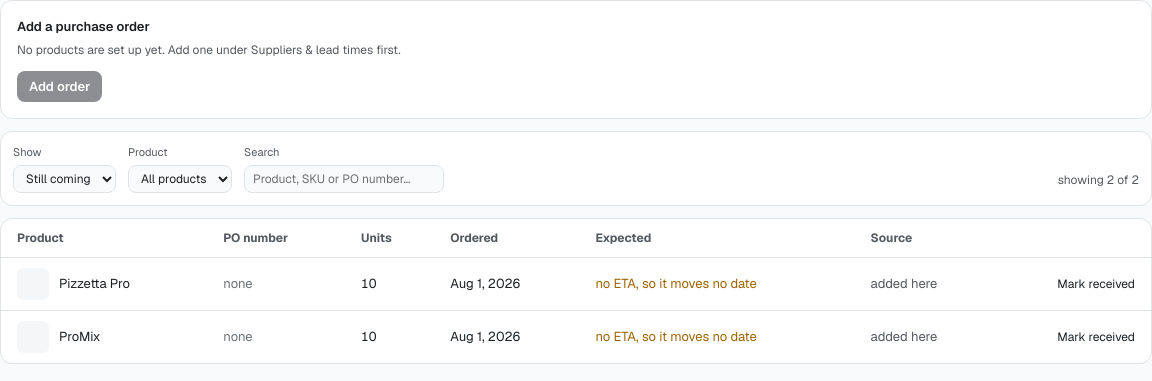
Test case: PurchaseOrdersClient filtering › searches by product name
In the search field named "Search purchase orders": [344, 178] box [244, 164, 444, 192], type "promix"
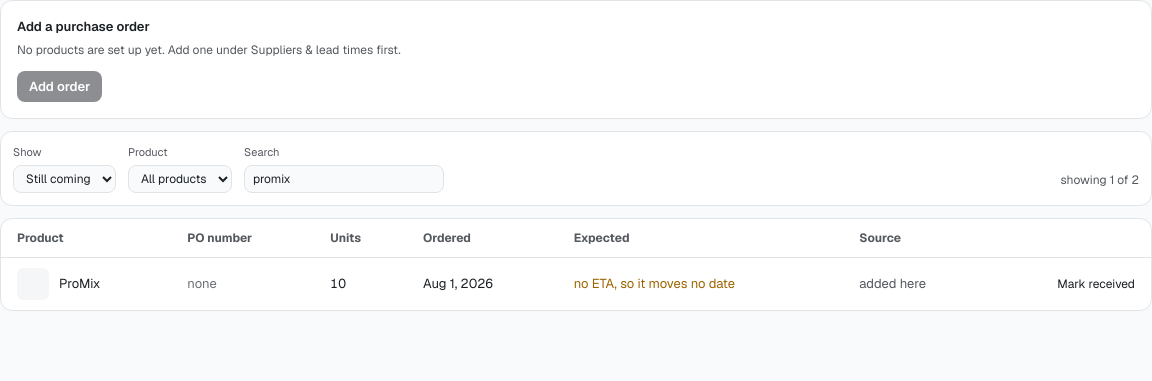
Expected: the text "ProMix" is shown, [59, 274, 100, 293]
Expected: the text "Pizzetta Pro" is gone
